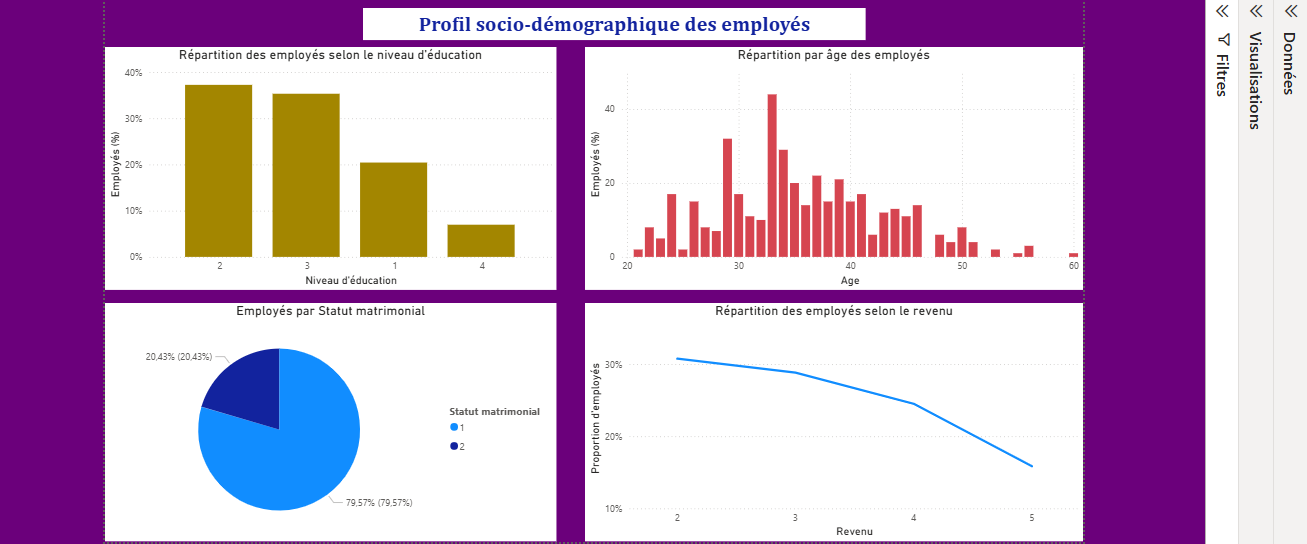

Layout of this report page (visuals, bound fields, positions):
{"tool":"powerbi","page":{"name":"Profil des employés","canvas":[1280,720],"ordinal":0},"visuals":[{"type":"columnChart","title":"Répartition des employés selon le niveau d''éducation","fields":{"Category":["Table 1 (Rawdata).Education"],"Y":["Sum(Table 1 (Rawdata).Employee number)"]},"box":[0,71.4,590.9,317.8],"z":0},{"type":"columnChart","title":"Répartition par âge des employés","fields":{"Category":["Table 1 (Rawdata).Age"],"Y":["Count(Table 1 (Rawdata).Employee number)"]},"box":[628.4,71.4,651.6,317.8],"z":1000},{"type":"pieChart","fields":{"Category":["Table 1 (Rawdata).Marital status "],"Y":["Sum(Table 1 (Rawdata).Employee number)"]},"box":[0,407,590.9,312.4],"z":2000},{"type":"textbox","box":[337.2,11,659.3,41.3],"z":3000},{"type":"lineChart","title":"Répartition des employés selon le revenu","fields":{"Y":["Sum(Table 1 (Rawdata).Employee number)"],"Category":["Table 1 (Rawdata).Income"]},"box":[628,407,652,312],"z":4000}]}

Visuals, with their boxes in screenshot pixels (x1, y1, x2, y2):
"Répartition des employés selon le niveau d''éducation" columnChart: (left=95, top=42, right=552, bottom=287)
"Répartition par âge des employés" columnChart: (left=581, top=42, right=1085, bottom=287)
pieChart - Table 1 (Rawdata).Marital status  x Sum(Table 1 (Rawdata).Employee number): (left=95, top=301, right=552, bottom=543)
textbox: (left=356, top=0, right=866, bottom=27)
"Répartition des employés selon le revenu" lineChart: (left=581, top=301, right=1085, bottom=542)
